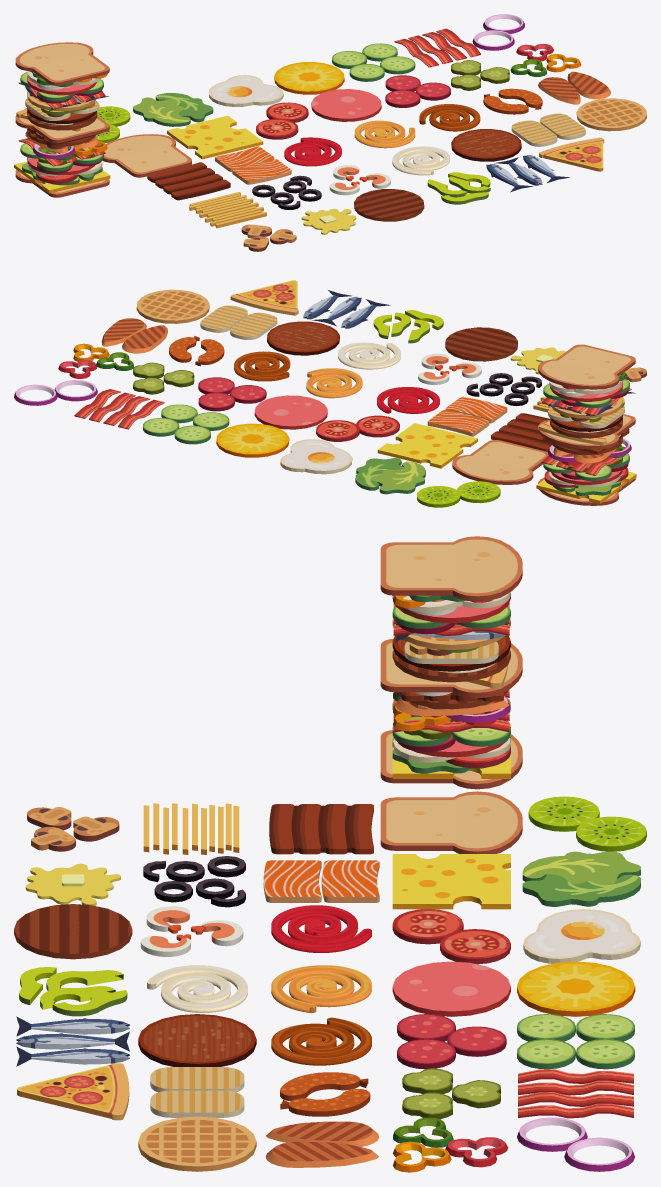
Rendered from maya2sketchfab.fbx.
The picture shows the model from 3 angles, top to bottom: view 1: azimuth 30°, elevation 25°; view 2: azimuth 150°, elevation 25°; view 3: azimuth 270°, elevation 25°; orthographic projection. The views are drawn at different scales.
Parts seen in each view (by area): view 1: Sandwhich, Bread_Slice, Cheese_Slice, Cucumber_Slice, Lettuce_Slice, Ribs_Slice, Ham_Slice, Patty_Slice, Roast_Slice, Waffle_Slice, Pineapple_Slice, Egg_Slice (+23 smaller); view 2: Sandwhich, Bread_Slice, Cheese_Slice, Cucumber_Slice, Lettuce_Slice, Roast_Slice, Patty_Slice, Ham_Slice, Waffle_Slice, Pineapple_Slice, Egg_Slice, Salmon_Slice (+21 smaller); view 3: Sandwhich, Bread_Slice, Cheese_Slice, Cucumber_Slice, Lettuce_Slice, Patty_Slice, Waffle_Slice, Pineapple_Slice, Ham_Slice, Roast_Slice, Ribs_Slice, Egg_Slice (+23 smaller).
Part boxes in pixels (box(x1,y1,x2,y2)): Sandwhich: box(14, 42, 110, 197); Bread_Slice: box(102, 134, 191, 177); Cheese_Slice: box(167, 115, 263, 159); Cucumber_Slice: box(332, 43, 415, 81); Lettuce_Slice: box(133, 93, 213, 126); Ribs_Slice: box(147, 162, 230, 200); Ham_Slice: box(311, 89, 381, 121); Patty_Slice: box(354, 189, 424, 221); Roast_Slice: box(451, 129, 521, 161); Waffle_Slice: box(576, 98, 646, 131); Pineapple_Slice: box(274, 62, 344, 94); Egg_Slice: box(209, 75, 283, 106); Sandwhich: box(536, 344, 636, 505); Bread_Slice: box(452, 440, 548, 484); Cheese_Slice: box(377, 423, 477, 468); Cucumber_Slice: box(143, 404, 229, 444); Lettuce_Slice: box(355, 458, 425, 494); Roast_Slice: box(267, 321, 339, 355); Patty_Slice: box(445, 327, 517, 361); Ham_Slice: box(254, 395, 327, 429); Waffle_Slice: box(136, 289, 209, 323); Pineapple_Slice: box(216, 423, 289, 457); Egg_Slice: box(280, 439, 352, 474); Salmon_Slice: box(427, 396, 507, 436); Sandwhich: box(380, 536, 522, 789); Bread_Slice: box(380, 791, 522, 853); Cheese_Slice: box(392, 854, 510, 909); Cucumber_Slice: box(517, 1014, 634, 1069); Lettuce_Slice: box(522, 851, 640, 906); Patty_Slice: box(14, 904, 132, 959); Waffle_Slice: box(138, 1116, 256, 1171); Pineapple_Slice: box(517, 961, 635, 1016); Ham_Slice: box(392, 961, 510, 1016); Roast_Slice: box(138, 1014, 256, 1066); Ribs_Slice: box(269, 804, 373, 854); Egg_Slice: box(523, 909, 640, 963).
Bounding box in the file's own units: 177 × 36.05 × 107.
34 materials, 34 textured.
